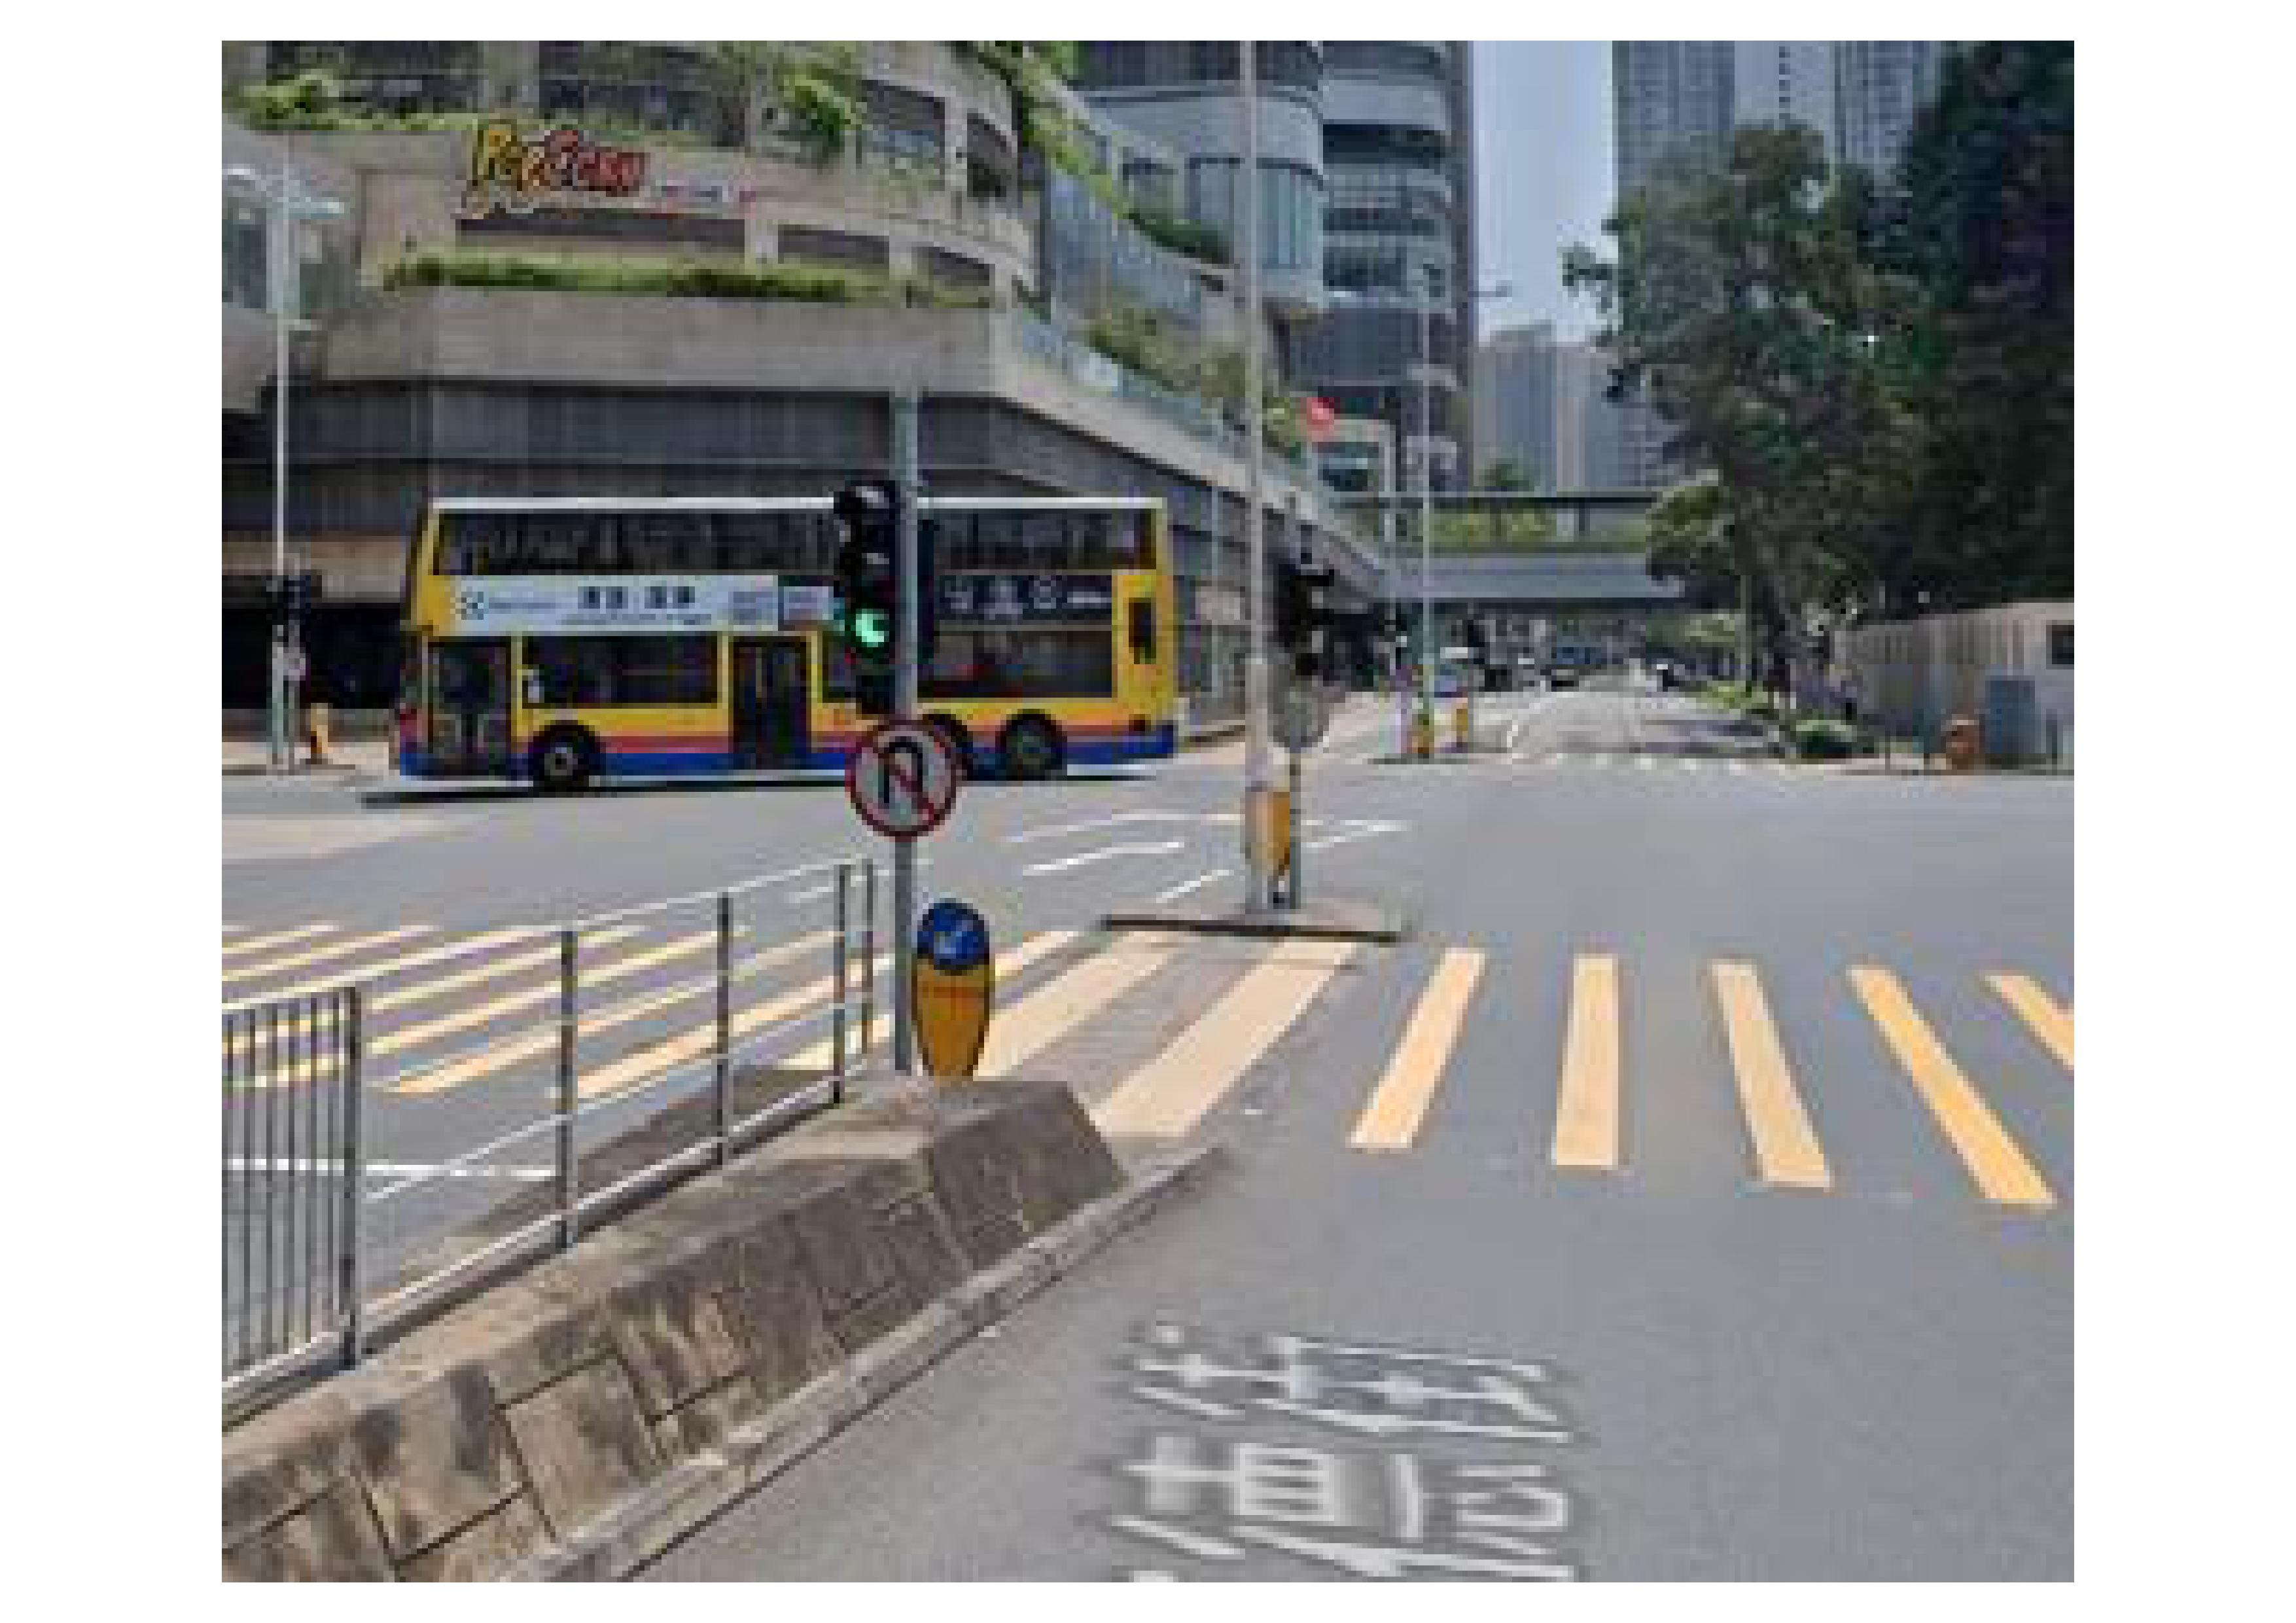No Uturn: (839, 718, 965, 834)
